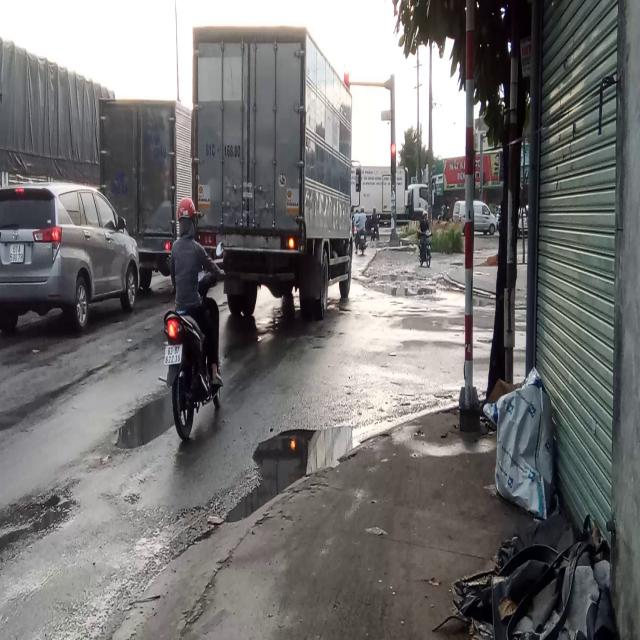bien_trang: (163, 339, 182, 365), (8, 241, 25, 268)
